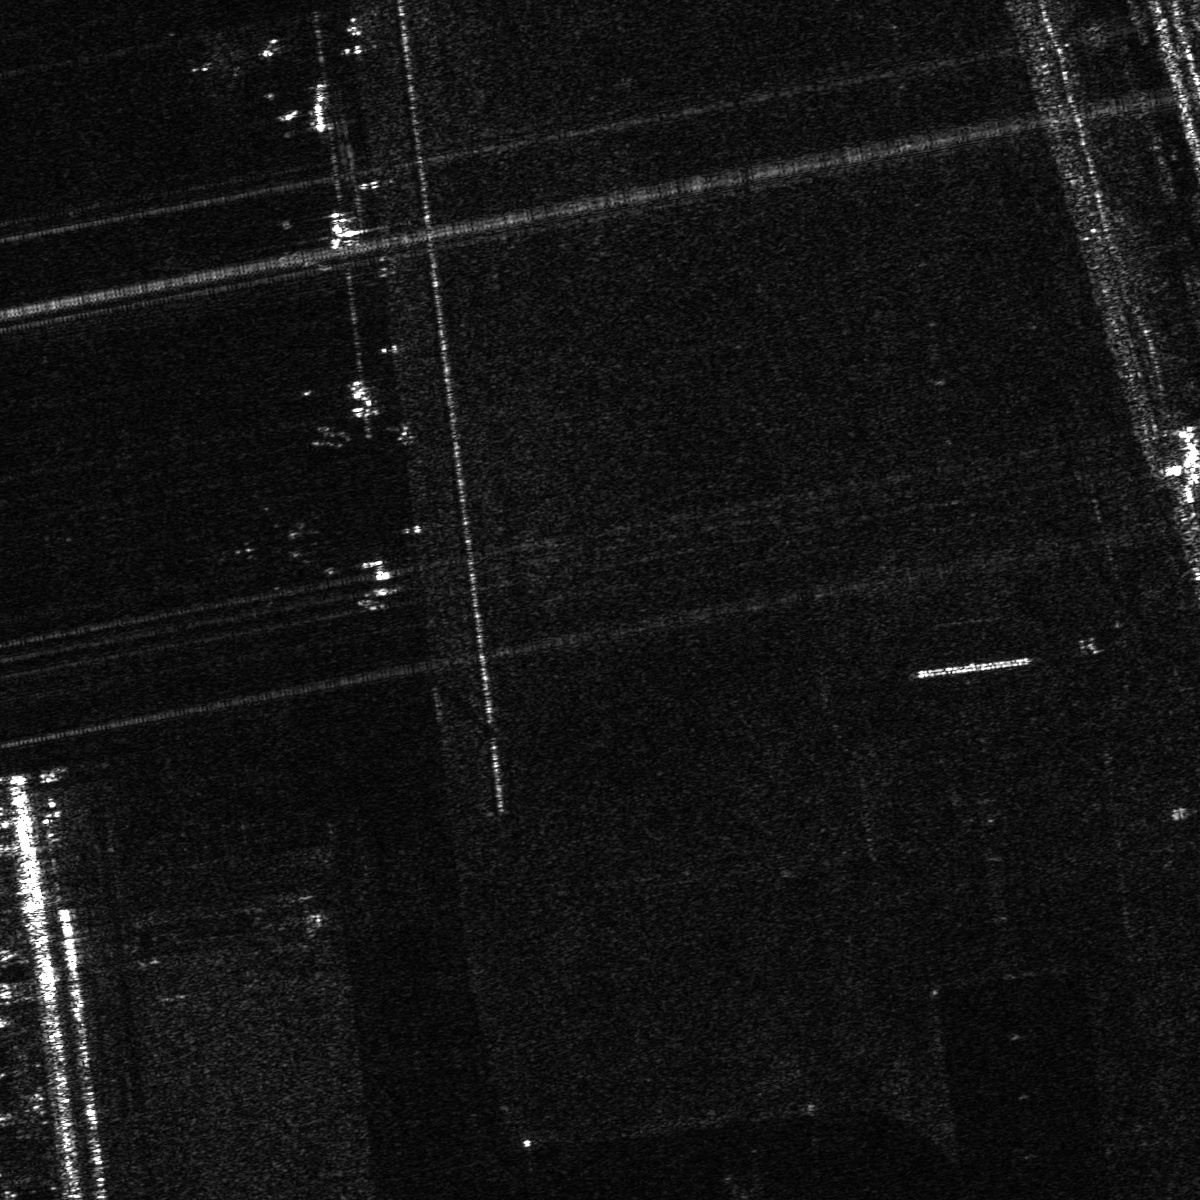A220: (184, 30, 254, 97)
Boeing787: (213, 489, 326, 610)
